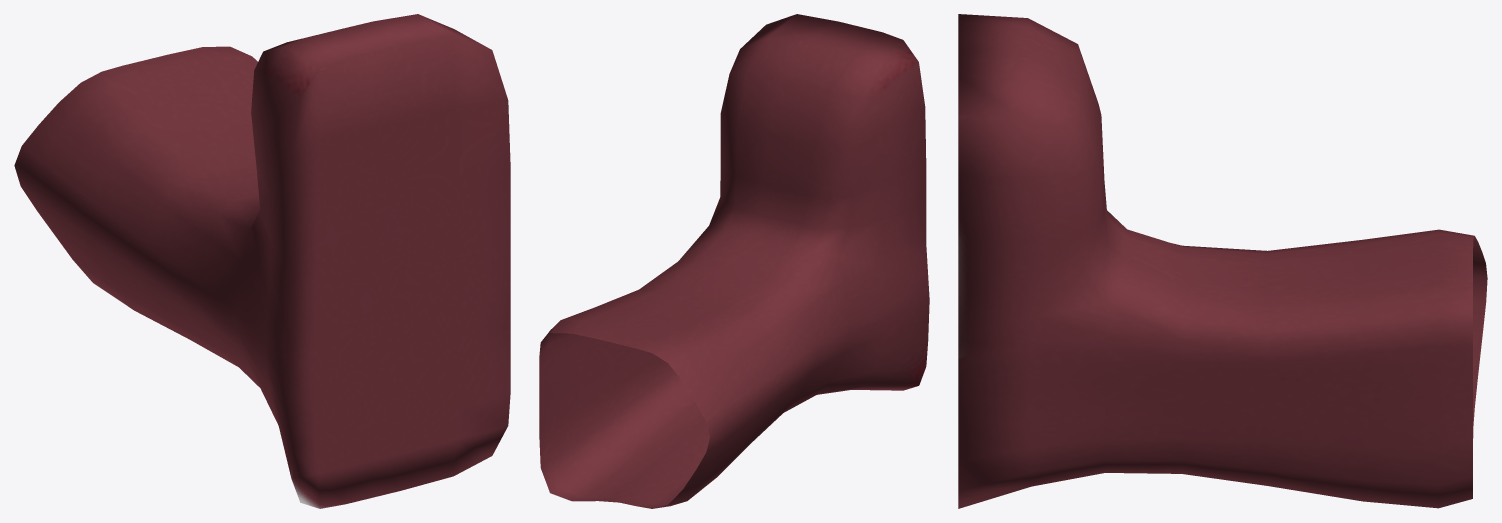
Rendered from Rubber_Boots.fbx.
3 renders of one model, left to right at view 1: azimuth 30°, elevation 25°; view 2: azimuth 150°, elevation 25°; view 3: azimuth 270°, elevation 25°, orthographic. The views are drawn at different scales.
Parts seen in each view (by area): view 1: Cube.001; view 2: Cube.001; view 3: Cube.001.
Boxes of the visible parts, x1,y1,x2,y2 form: Cube.001: [14, 14, 510, 508]; Cube.001: [539, 14, 929, 508]; Cube.001: [958, 14, 1487, 508].
Bounding box in the file's own units: 2309 × 4281 × 4785.
1 material, 1 textured.
